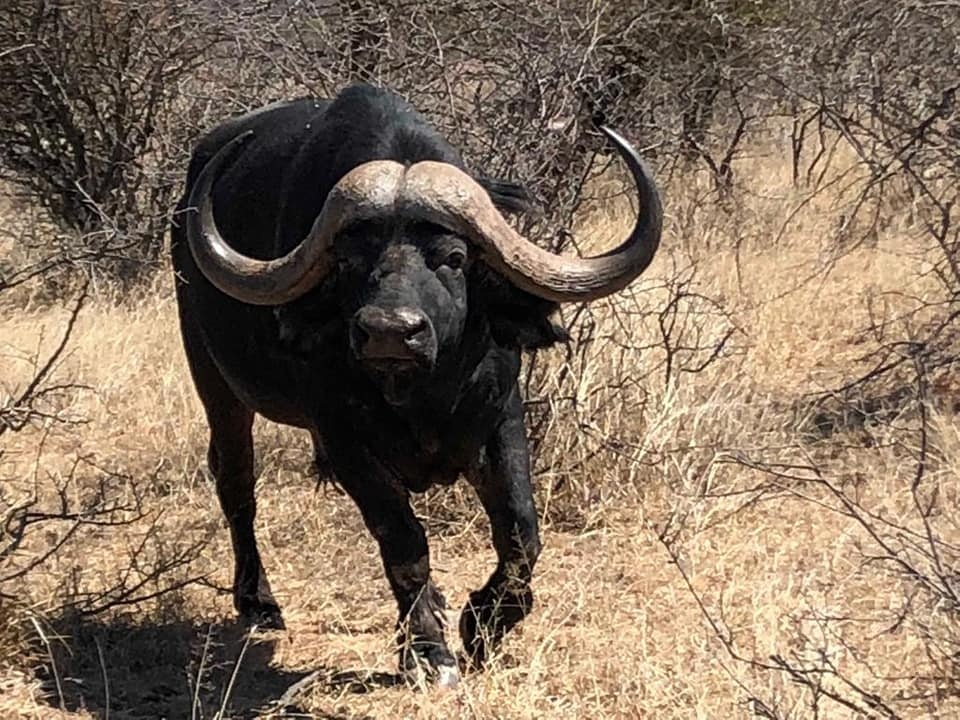buffalo: (169, 88, 663, 687)
